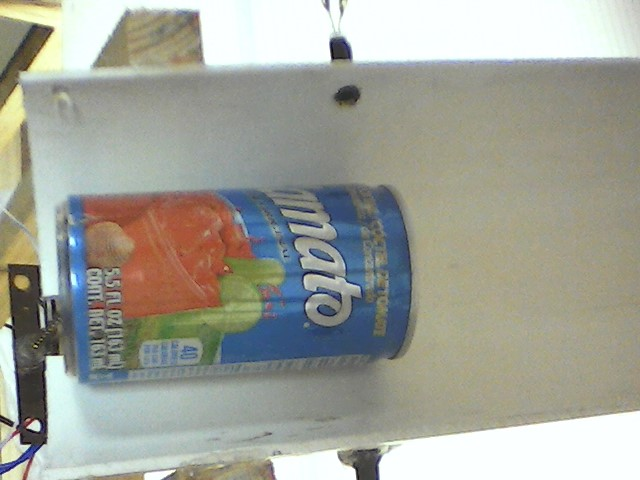lata: (54, 180, 421, 388)
